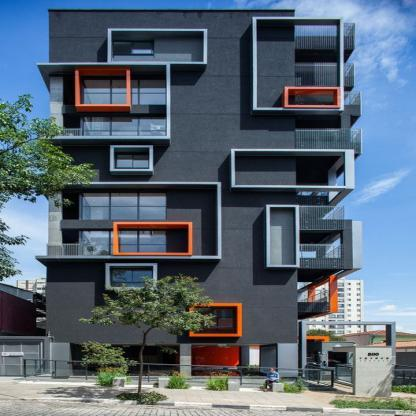Balcony: (69, 343, 278, 378), (306, 324, 391, 380), (295, 91, 361, 105), (295, 129, 361, 143), (296, 23, 356, 36), (296, 63, 356, 76), (296, 205, 345, 219), (295, 245, 343, 259), (298, 289, 329, 303), (48, 244, 81, 257)
Building Outline: (0, 8, 396, 381)
Door: (0, 342, 40, 376)
Facade: (0, 8, 396, 380)
Floor Slab: (48, 221, 352, 229), (51, 106, 360, 113), (51, 175, 355, 182), (48, 259, 352, 266), (47, 303, 330, 310), (46, 336, 298, 343), (50, 59, 204, 67), (257, 37, 354, 49), (257, 77, 354, 87)
Pillar: (181, 344, 192, 377)
Window: (33, 184, 217, 256), (37, 64, 167, 136), (256, 20, 340, 108), (235, 151, 346, 186), (111, 31, 203, 61), (81, 193, 166, 220), (81, 231, 166, 257), (85, 80, 166, 104), (85, 118, 166, 142), (79, 69, 126, 104), (271, 207, 296, 265), (300, 230, 344, 259), (194, 306, 238, 334), (109, 266, 153, 287), (298, 274, 329, 303), (289, 89, 338, 106), (195, 309, 234, 329), (111, 41, 154, 59), (113, 148, 149, 169), (113, 269, 152, 287), (117, 152, 149, 168), (328, 351, 348, 367)
